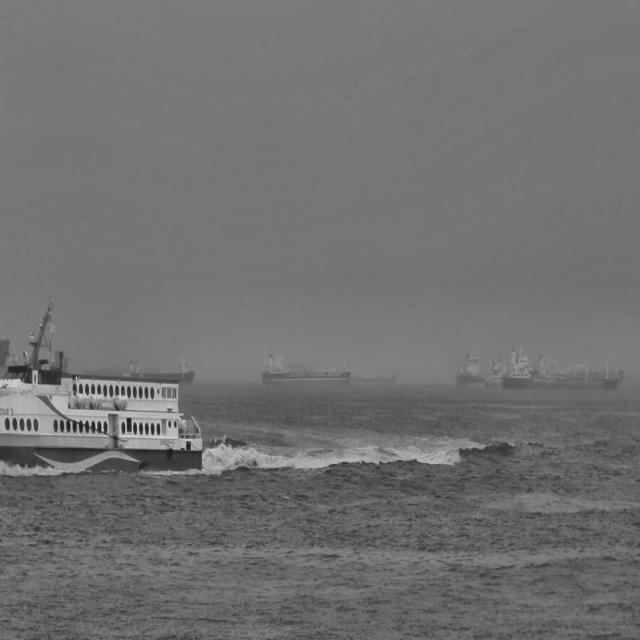ship: (0, 294, 206, 478), (500, 344, 620, 392), (260, 349, 352, 385), (121, 357, 195, 382), (455, 351, 484, 388), (483, 355, 503, 389), (0, 337, 12, 387)
